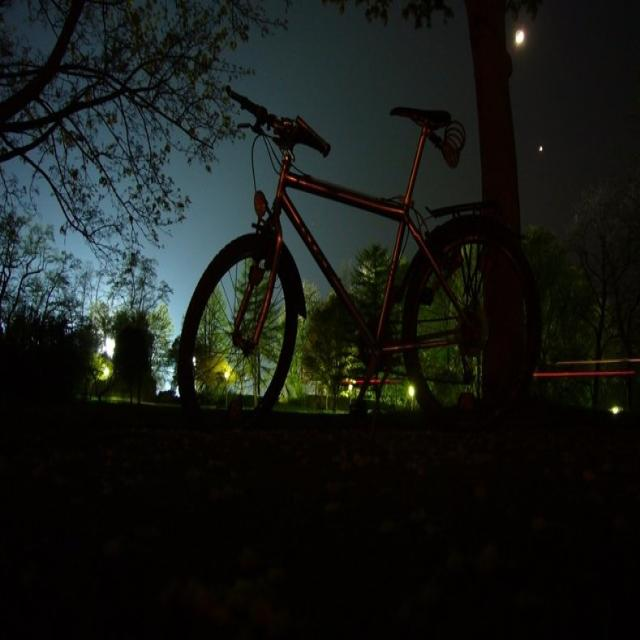Bicycle: (179, 72, 549, 537)
